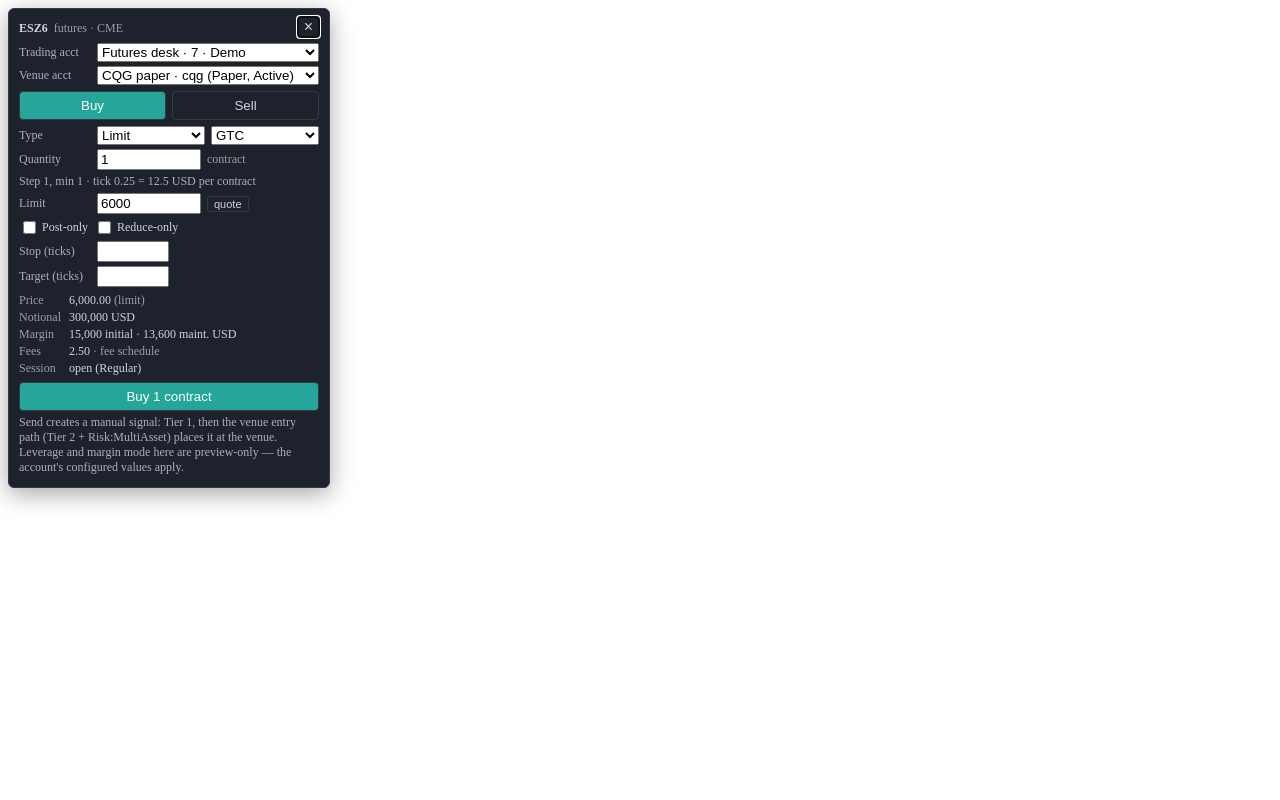
Test: VenueOrderTicketComponent — Send › a refusal shows the engine’s reason and is never reported as sent
Click the button with test id "venue-ticket-submit" at (169,396), box top-left (19, 382), bottom-right (319, 411)
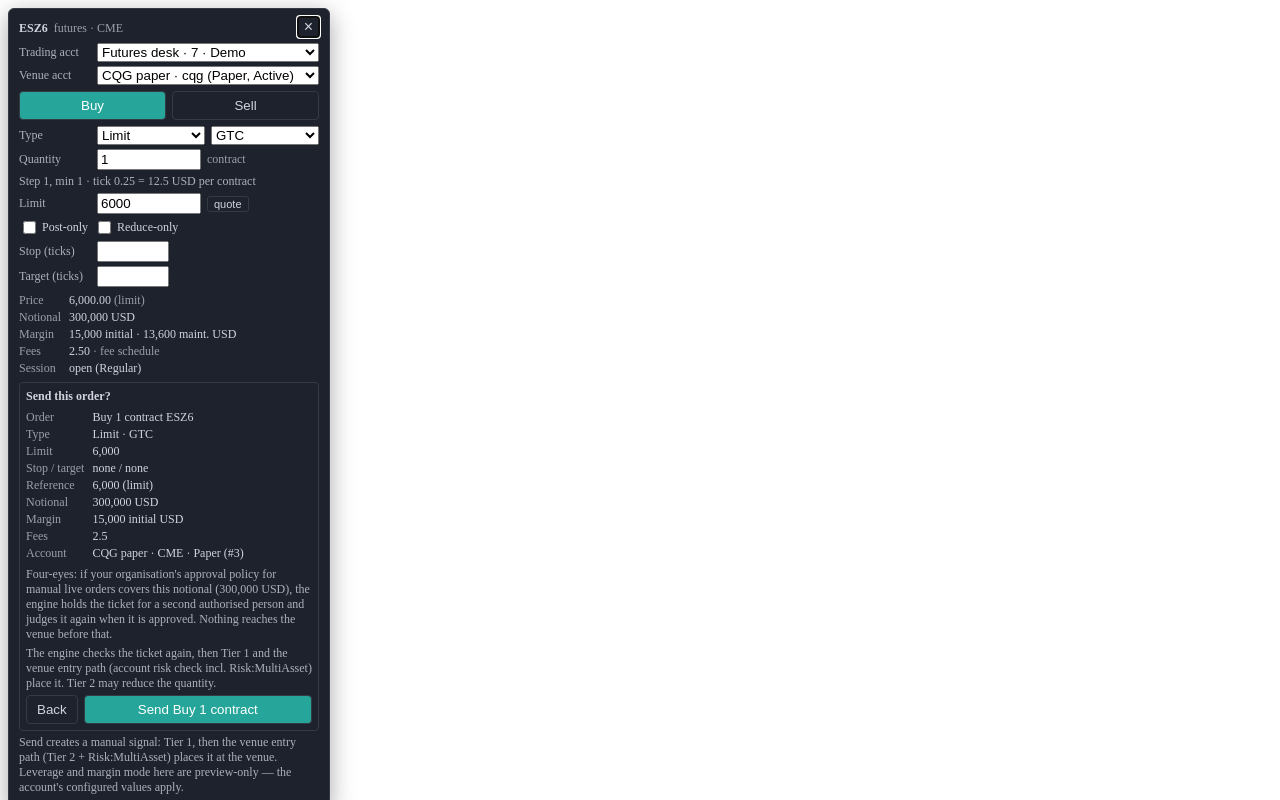
Click the button with test id "venue-ticket-confirm" at (198,710), box top-left (84, 695), bottom-right (312, 724)
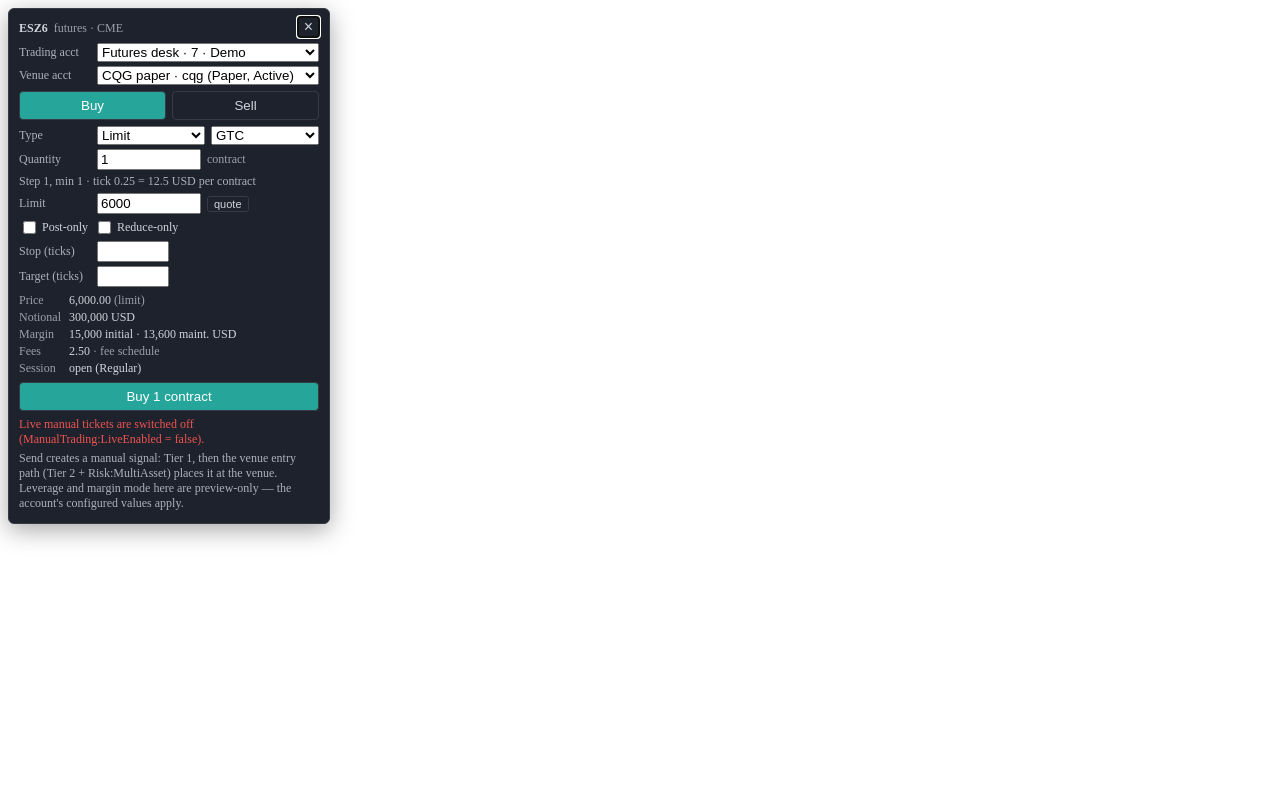
Expected: the message with test id "venue-ticket-result" shows "ManualTrading:LiveEnabled", top-left (19, 417), bottom-right (204, 446)
